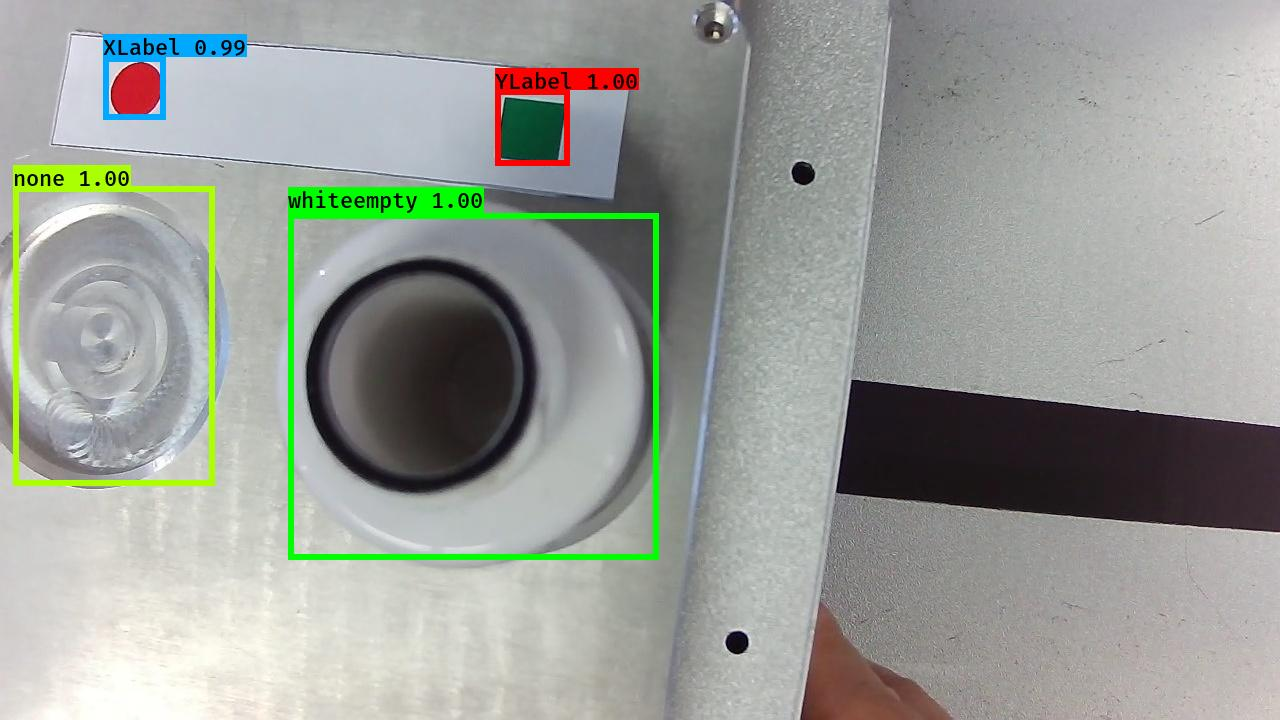XLabel: (108, 59, 165, 124)
YLabel: (492, 94, 568, 165)
none: (1, 185, 232, 492)
whiteempty: (267, 198, 664, 572)
